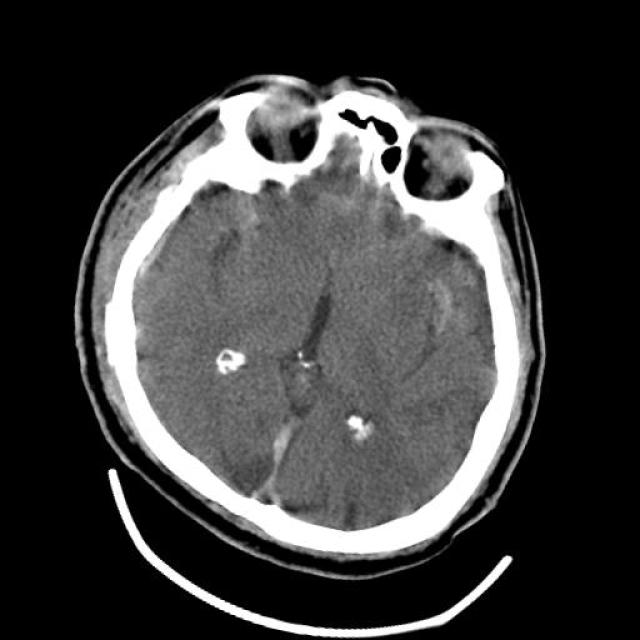Subdural: (212, 404, 328, 545)
